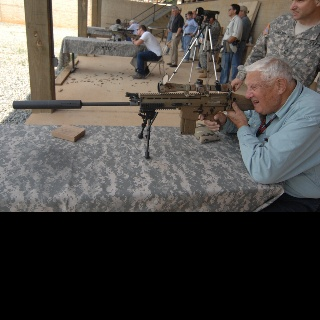without_mask: (186, 13, 192, 18)
